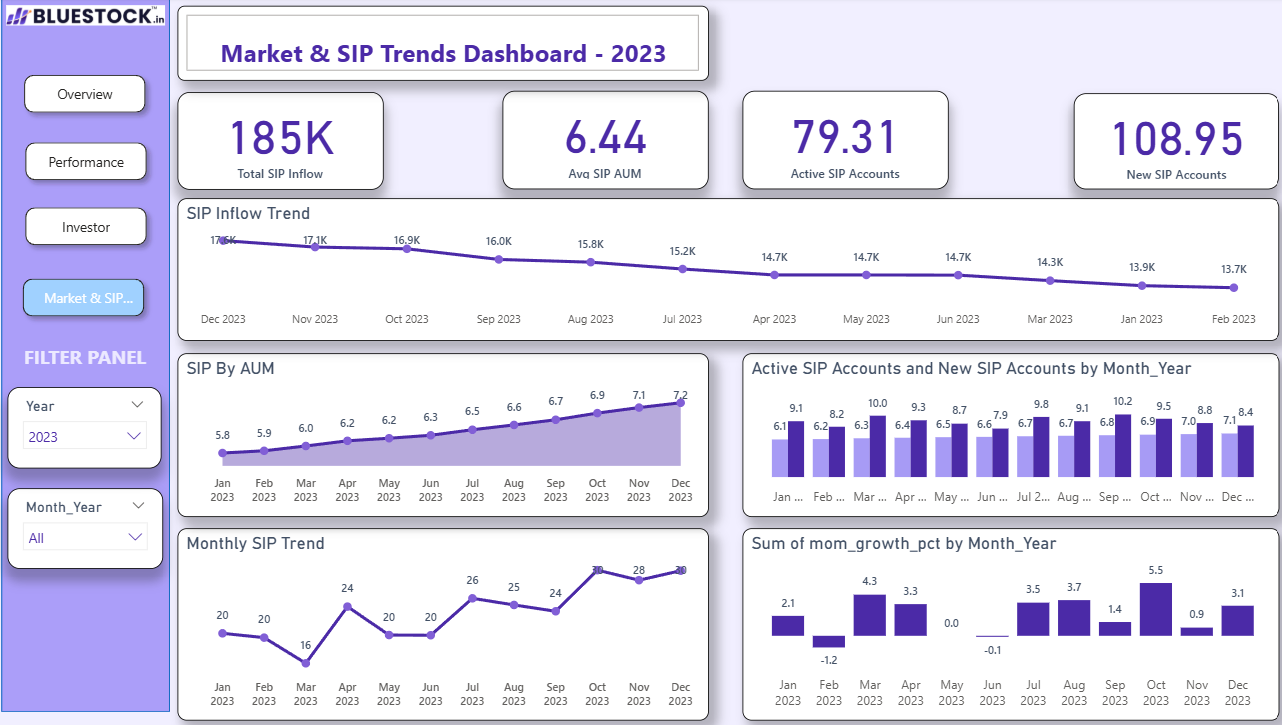

The dashboard page shown, as its layout file describes it:
{"tool":"powerbi","page":{"name":"Market & SIP Trends","canvas":[1280,720],"ordinal":3},"visuals":[{"type":"shape","box":[11,0,165.6,701.8],"z":0,"group":"g1"},{"type":"card","title":"Total AUM","fields":{"Values":["Table.Total SIP Inflow"]},"box":[184.1,93.3,202.5,95.7],"z":0},{"type":"card","title":"Total AUM","fields":{"Values":["Table.Avg SIP AUM"]},"box":[503.1,92,202.5,96.9],"z":1000},{"type":"card","title":"Total AUM","fields":{"Values":["Table.Active SIP Accounts"]},"box":[738.7,92,202.5,96.9],"z":2000},{"type":"card","title":"Total AUM","fields":{"Values":["Table.New SIP Accounts"]},"box":[1063.8,94.5,202.5,94.5],"z":3000},{"type":"lineChart","title":"Monthly SIP Trend","fields":{"Y":["Sum(public monthly_sip_features.yoy_growth_pct)"],"Category":["public monthly_sip_features.Month Year.Variation.Date Hierarchy.Year"]},"box":[184.1,521.5,521.5,189],"z":4000},{"type":"areaChart","title":"SIP By AUM","fields":{"Category":["public monthly_sip_features.Month_Year"],"Y":["Sum(public monthly_sip_features.sip_aum_lakh_crore)"]},"box":[184.1,349.7,521.5,160.7],"z":5000},{"type":"slicer","fields":{"Values":["public monthly_sip_features.Month_Year"]},"box":[16.6,482.1,152.4,79],"z":5000,"group":"g1"},{"type":"clusteredColumnChart","fields":{"Category":["public monthly_sip_features.Month_Year"],"Y":["Table.Active SIP Accounts","Table.New SIP Accounts"]},"box":[738.7,349.7,527.6,160.7],"z":6000},{"type":"columnChart","fields":{"Category":["public monthly_sip_features.Month_Year"],"Y":["Sum(public monthly_sip_features.mom_growth_pct)"]},"box":[738.7,521.5,527.6,189],"z":7000},{"type":"cardVisual","fields":{"Data":["Table.SIP Title"]},"box":[184.1,8.6,521.5,73.6],"z":8000},{"type":"lineChart","title":"SIP Inflow Trend","fields":{"Category":["DateTable.Month Year"],"Y":["Sum(public monthly_sip_features.sip_inflow_crore)"]},"box":[184.1,197.5,1082.2,139.9],"z":9000},{"type":"group","id":"g1","title":"Group 1","box":[11,0,165.6,701.8],"z":10000},{"type":"slicer","fields":{"Values":["DateTable.Year"]},"box":[16.6,382.8,151.3,80.2],"z":10000,"group":"g1"},{"type":"textbox","box":[18.4,335,149.7,47.9],"z":11000},{"type":"pageNavigator","box":[24.5,67.5,137.4,55.2],"z":12000},{"type":"image","box":[11,0,165.6,35.6],"z":13000,"group":"g1"},{"type":"pageNavigator","box":[25.8,133.7,137.4,55.2],"z":13000},{"type":"pageNavigator","box":[25.8,197.5,137.4,55.2],"z":14000},{"type":"pageNavigator","box":[23.3,267.5,137.4,55.2],"z":15000}]}

Visuals, with their boxes on the page's 1280x720 design canvas (x1, y1, x2, y2). These are canvas units, not pixel positions in the 1282x725 screenshot, which may show the page scaled, cropped or inside an application window:
shape: region(11, 0, 177, 702)
"Total AUM" card: region(184, 93, 387, 189)
"Total AUM" card: region(503, 92, 706, 189)
"Total AUM" card: region(739, 92, 941, 189)
"Total AUM" card: region(1064, 94, 1266, 189)
"Monthly SIP Trend" lineChart: region(184, 522, 706, 710)
"SIP By AUM" areaChart: region(184, 350, 706, 510)
slicer - public monthly_sip_features.Month_Year: region(17, 482, 169, 561)
clusteredColumnChart - public monthly_sip_features.Month_Year x Table.Active SIP Accounts: region(739, 350, 1266, 510)
columnChart - public monthly_sip_features.Month_Year x Sum(public monthly_sip_features.mom_growth_pct): region(739, 522, 1266, 710)
cardVisual - Table.SIP Title: region(184, 9, 706, 82)
"SIP Inflow Trend" lineChart: region(184, 198, 1266, 337)
"Group 1" group: region(11, 0, 177, 702)
slicer - DateTable.Year: region(17, 383, 168, 463)
textbox: region(18, 335, 168, 383)
pageNavigator: region(24, 68, 162, 123)
image: region(11, 0, 177, 36)
pageNavigator: region(26, 134, 163, 189)
pageNavigator: region(26, 198, 163, 253)
pageNavigator: region(23, 268, 161, 323)
